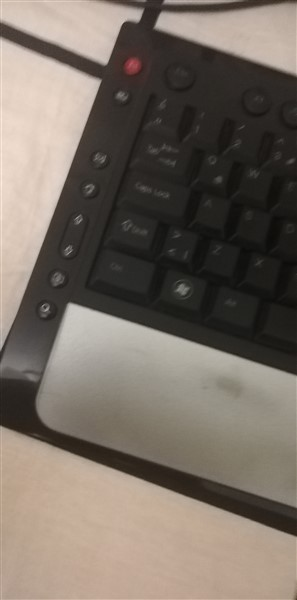klavye: (1, 15, 297, 521)
